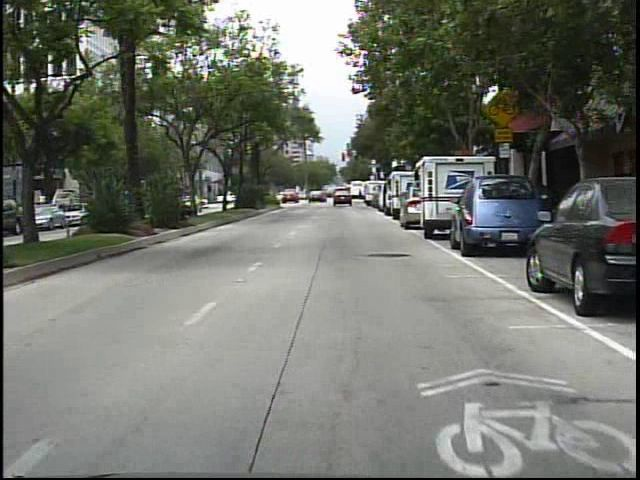person: (357, 183, 365, 204)
